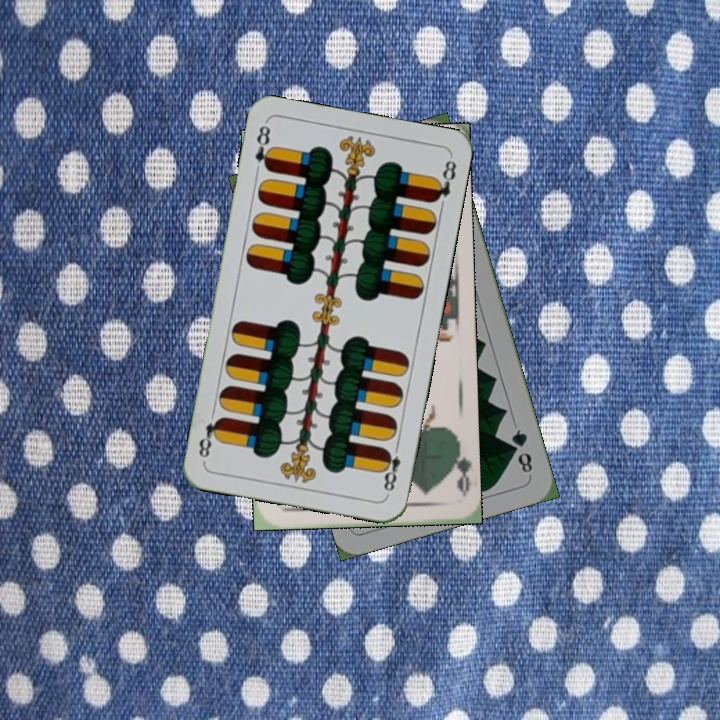E8: (377, 439, 403, 498), (250, 121, 276, 173)
G8: (507, 425, 535, 476)
GO: (445, 438, 472, 497)
